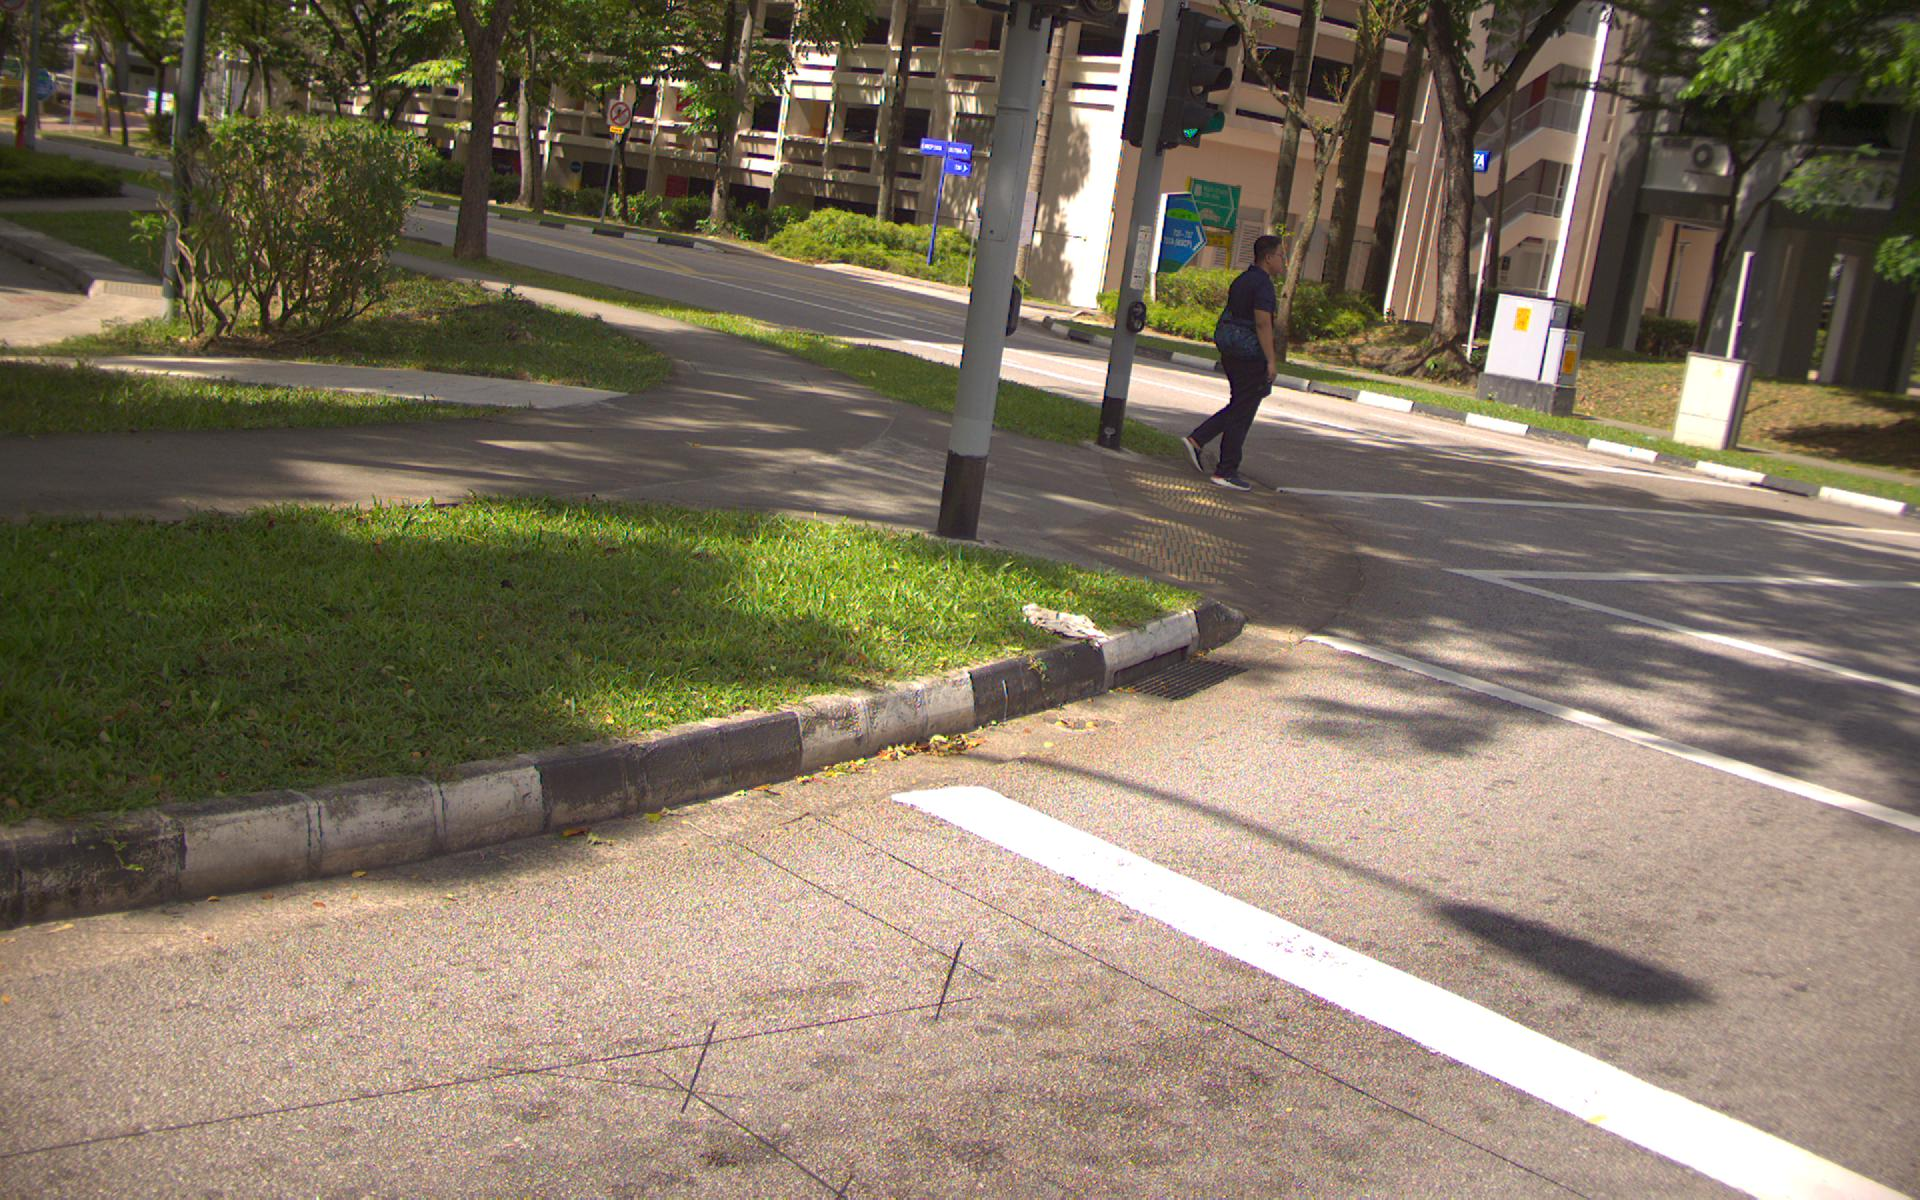curb_dic_low: (1109, 628, 1268, 722)
road_turf_low: (1, 521, 370, 799), (399, 514, 863, 716), (874, 541, 1017, 651), (404, 276, 518, 366), (10, 371, 130, 429), (106, 210, 207, 252)
